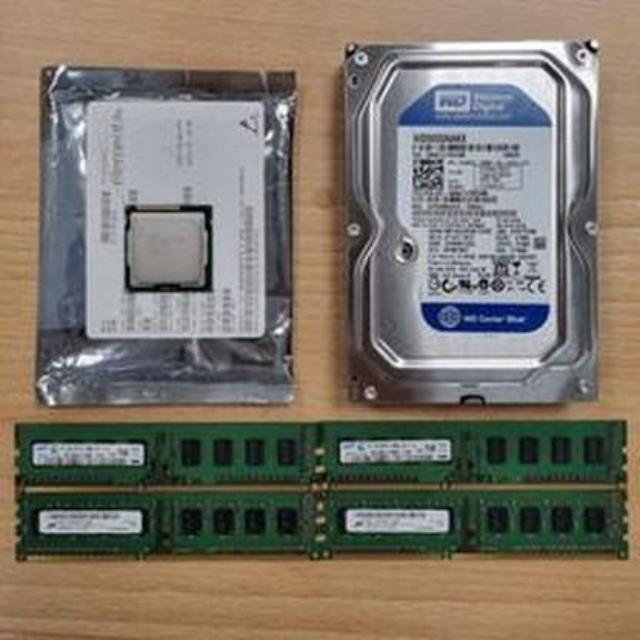CPU: (122, 202, 210, 292)
DISK: (338, 42, 600, 410)
RAM: (324, 486, 630, 558), (20, 488, 318, 560), (17, 424, 320, 486), (324, 424, 628, 484)
